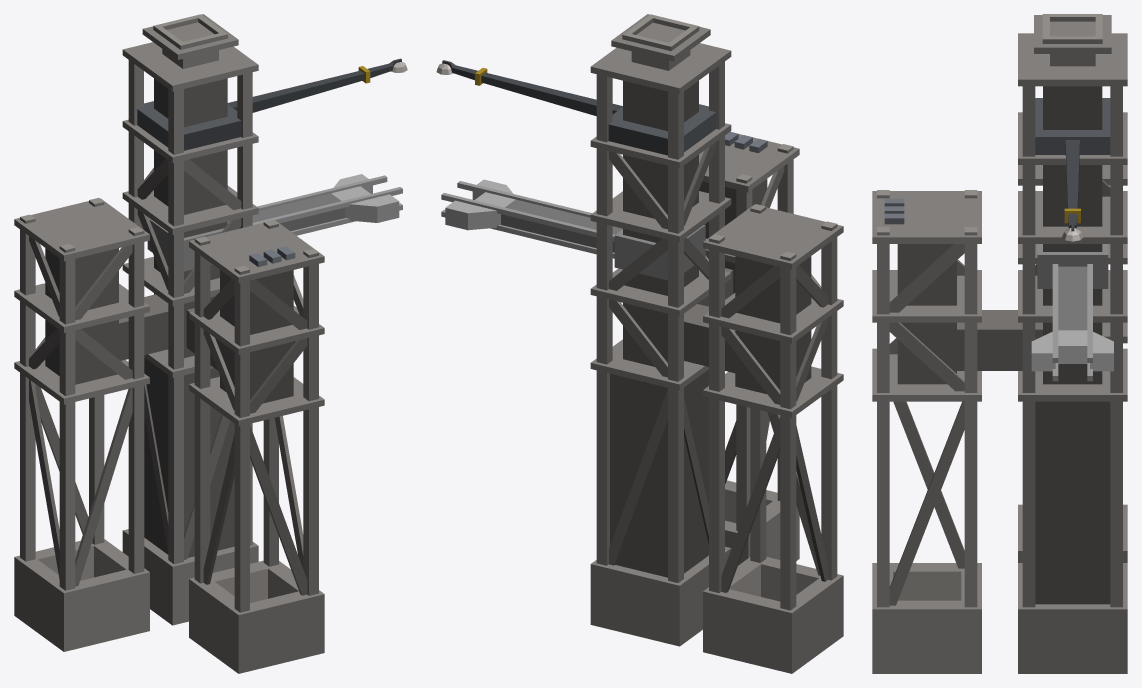
Rendered from SM_Bld_ShuttleLaunchTower_01.fbx.
3 renders of one model, left to right at view 1: azimuth 30°, elevation 25°; view 2: azimuth 150°, elevation 25°; view 3: azimuth 270°, elevation 25°, orthographic. The views are drawn at different scales.
Visible parts, largest first — view 1: SM_Bld_ShuttleLaunchTower_01; view 2: SM_Bld_ShuttleLaunchTower_01; view 3: SM_Bld_ShuttleLaunchTower_01.
Boxes of the visible parts, x1,y1,x2,y2 form: SM_Bld_ShuttleLaunchTower_01: (14, 14, 407, 673); SM_Bld_ShuttleLaunchTower_01: (436, 14, 843, 673); SM_Bld_ShuttleLaunchTower_01: (872, 14, 1127, 673).
Bounding box in the file's own units: 32.08 × 47.26 × 17.51.
